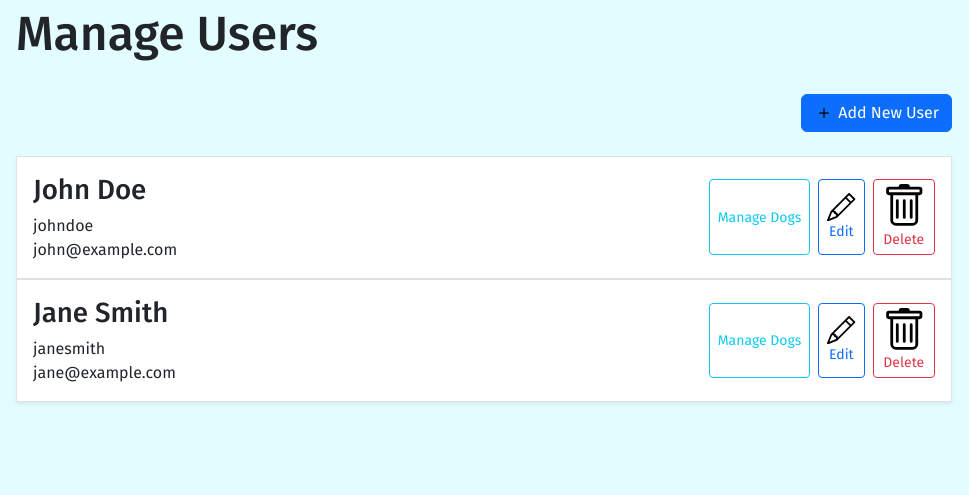
Test: ManageUsers Component › deletes a user after confirmation
Expected: the heading "John Doe" is shown, [33, 173, 146, 206]
// Find and click delete button for the first user
Click the button "Delete" in the row of "john@example.com". click: (904, 217)
box: [872, 180, 935, 255]
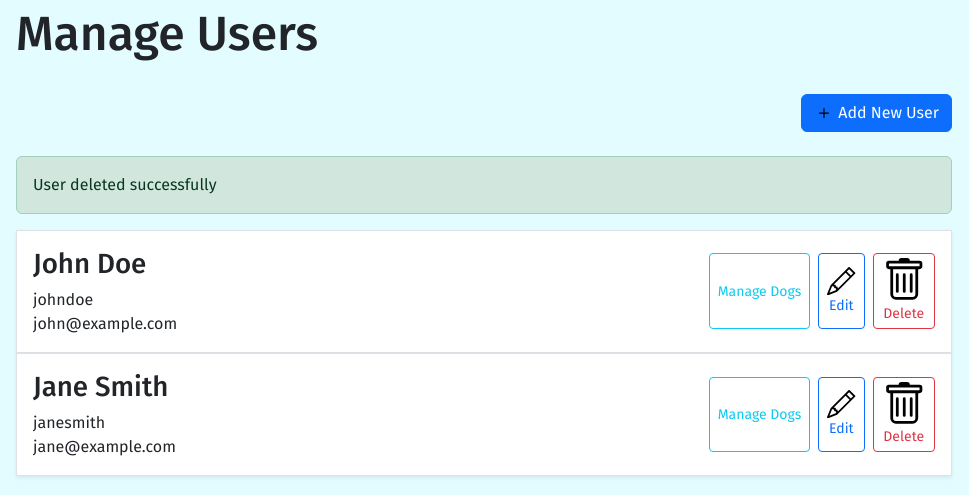
Now the text "User deleted successfully" is shown, box [16, 156, 952, 214]
